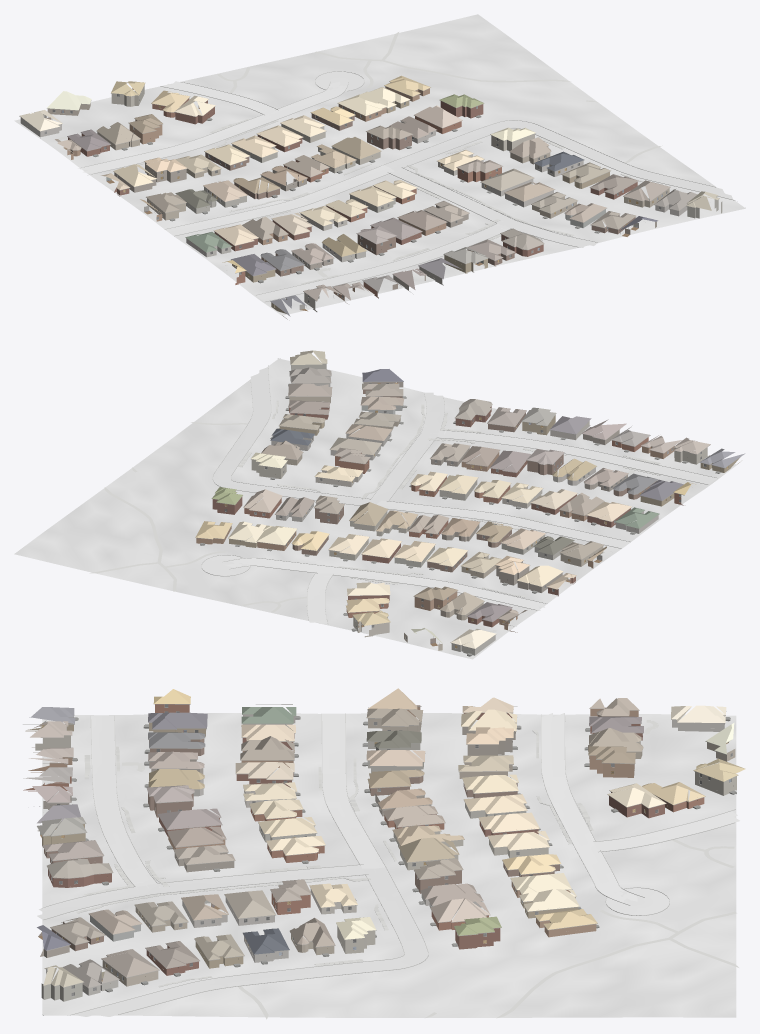
3 renders of one model, top to bottom at view 1: azimuth 30°, elevation 25°; view 2: azimuth 150°, elevation 25°; view 3: azimuth 270°, elevation 25°, orthographic. The views are drawn at different scales.
Parts seen in each view (by area): view 1: ground, roof, concrete, wall, detail, wall_stucco, curb, walk, wall_stone, glass; view 2: ground, roof, concrete, wall, detail, wall_stucco, curb, walk, wall_stone; view 3: ground, roof, concrete, wall, detail, wall_stucco, walk, curb, wall_stone, glass.
Part boxes in pixels (bbox=[...]): ground: bbox=[14, 14, 745, 315]; roof: bbox=[19, 75, 719, 315]; concrete: bbox=[78, 71, 732, 301]; wall: bbox=[67, 86, 656, 319]; detail: bbox=[19, 81, 719, 311]; wall_stucco: bbox=[47, 85, 722, 311]; curb: bbox=[81, 71, 745, 301]; walk: bbox=[58, 32, 662, 290]; wall_stone: bbox=[20, 117, 696, 262]; glass: bbox=[44, 91, 666, 302]; ground: bbox=[14, 358, 737, 659]; roof: bbox=[195, 350, 745, 648]; concrete: bbox=[201, 367, 716, 623]; wall: bbox=[196, 382, 740, 632]; detail: bbox=[195, 363, 738, 656]; wall_stucco: bbox=[251, 364, 709, 650]; curb: bbox=[201, 358, 716, 624]; walk: bbox=[89, 400, 661, 632]; wall_stone: bbox=[271, 376, 658, 655]; ground: bbox=[42, 713, 736, 1017]; roof: bbox=[23, 688, 745, 987]; concrete: bbox=[37, 713, 739, 1016]; wall: bbox=[23, 704, 704, 975]; detail: bbox=[23, 704, 738, 996]; wall_stucco: bbox=[33, 718, 736, 1001]; walk: bbox=[76, 720, 738, 1019]; curb: bbox=[41, 713, 735, 1015]; wall_stone: bbox=[80, 714, 724, 995]; glass: bbox=[49, 704, 732, 995].
Bounding box in the file's own units: 258 × 13.3 × 264.
